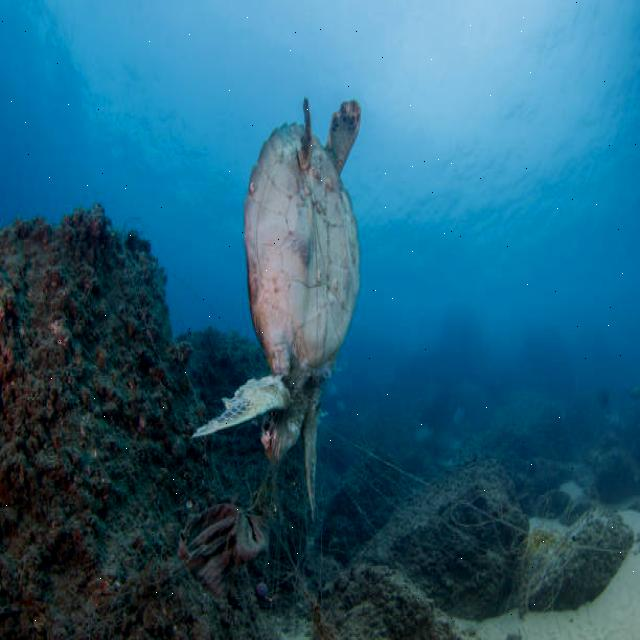tortoise: (228, 94, 370, 472)
